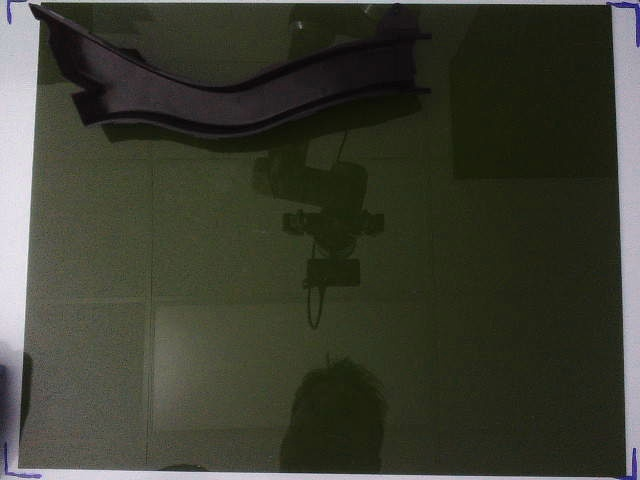887_A-Under: (28, 2, 434, 141)
